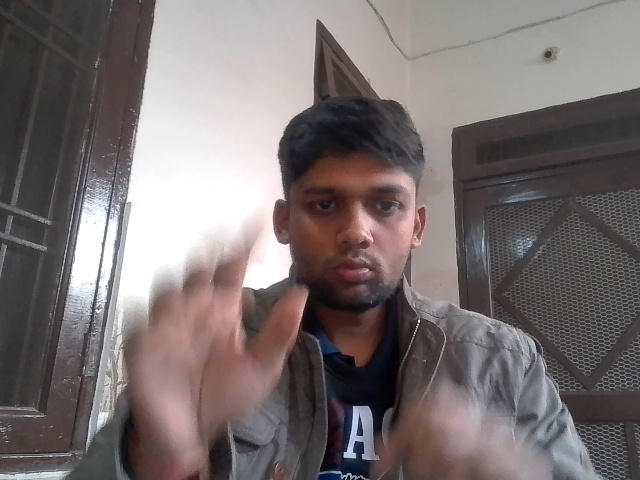Hello: (115, 225, 324, 440)
